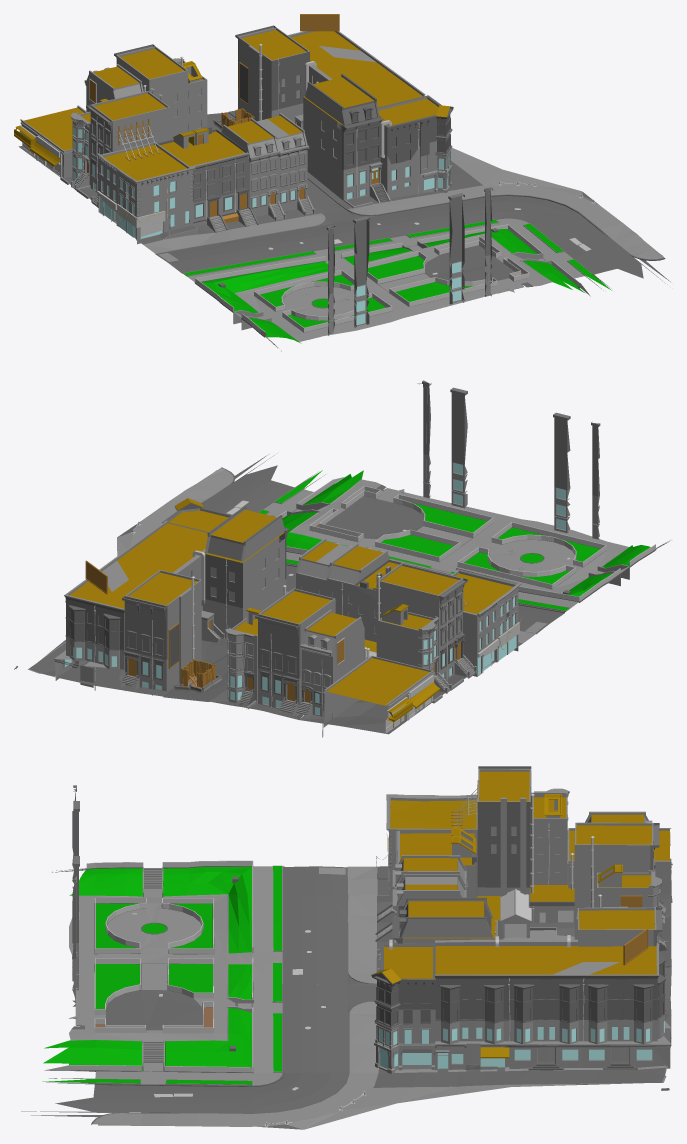
File: brook_s2_13.FBX
The picture shows the model from 3 angles, top to bottom: view 1: azimuth 30°, elevation 25°; view 2: azimuth 150°, elevation 25°; view 3: azimuth 270°, elevation 25°; orthographic projection. The views are drawn at different scales.
Parts seen in each view (by area): view 1: unnamed, null; view 2: unnamed, null; view 3: unnamed, null.
Boxes of the visible parts, x1,y1,x2,y2 form: unnamed: (14,44,670,351); null: (207,14,393,131); unnamed: (14,380,669,737); null: (28,545,227,699); unnamed: (21,766,672,1129); null: (495,894,671,1084).
Size of the model in its own units: 107 by 29.93 by 124.
